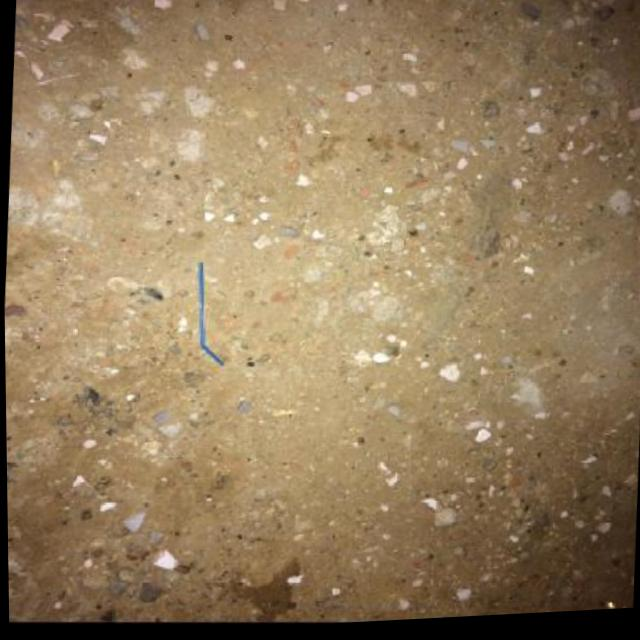plastic: (193, 262, 230, 370)
